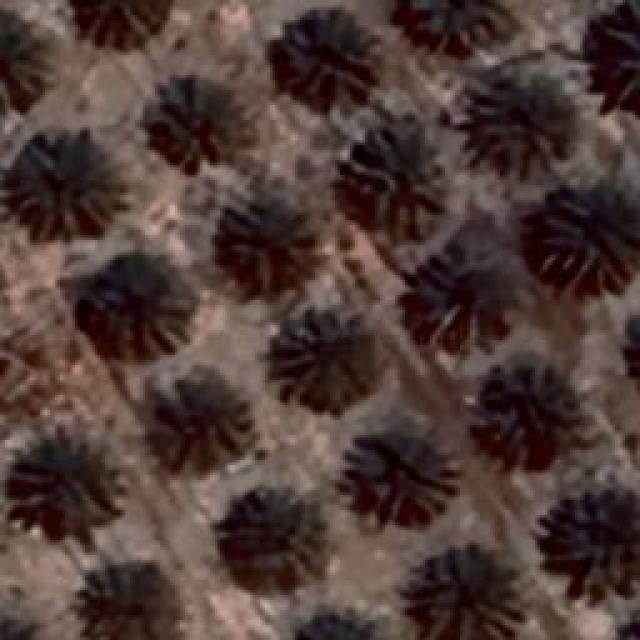PalmTree: (115, 73, 270, 241), (5, 132, 130, 240), (104, 92, 130, 604), (268, 305, 380, 413), (348, 127, 450, 240), (342, 428, 462, 522), (530, 182, 635, 288), (405, 547, 530, 635), (545, 490, 640, 605), (484, 368, 586, 472), (270, 10, 375, 108), (84, 270, 198, 360), (412, 252, 520, 346), (10, 438, 115, 532), (147, 75, 250, 170), (221, 499, 329, 589), (474, 77, 578, 155), (154, 381, 238, 461), (0, 10, 48, 109), (410, 2, 508, 50), (78, 0, 170, 48), (602, 0, 640, 111), (288, 607, 402, 640), (613, 303, 640, 403), (623, 303, 640, 399), (0, 609, 52, 640), (629, 304, 640, 400)
